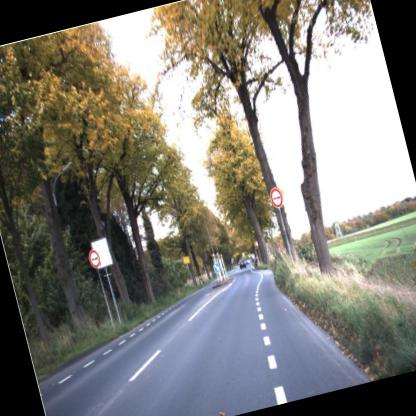mandatory: (211, 260, 224, 276)
prohibitory: (264, 184, 289, 213), (85, 247, 105, 273)
